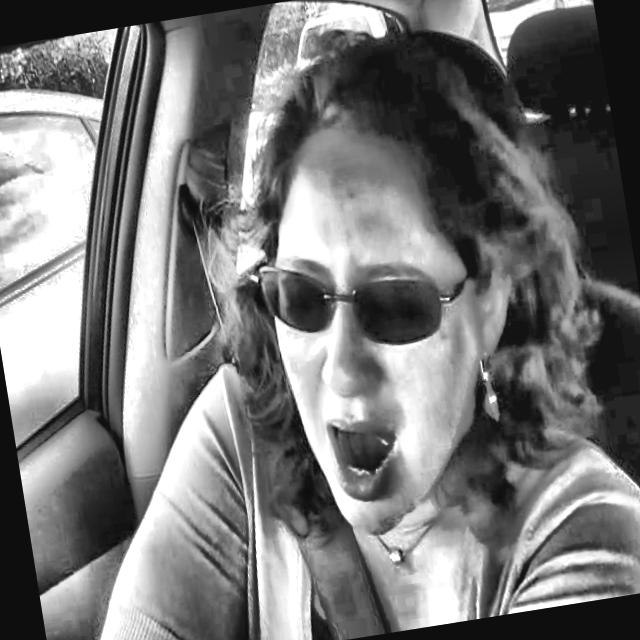open_mouth: (311, 408, 415, 517)
